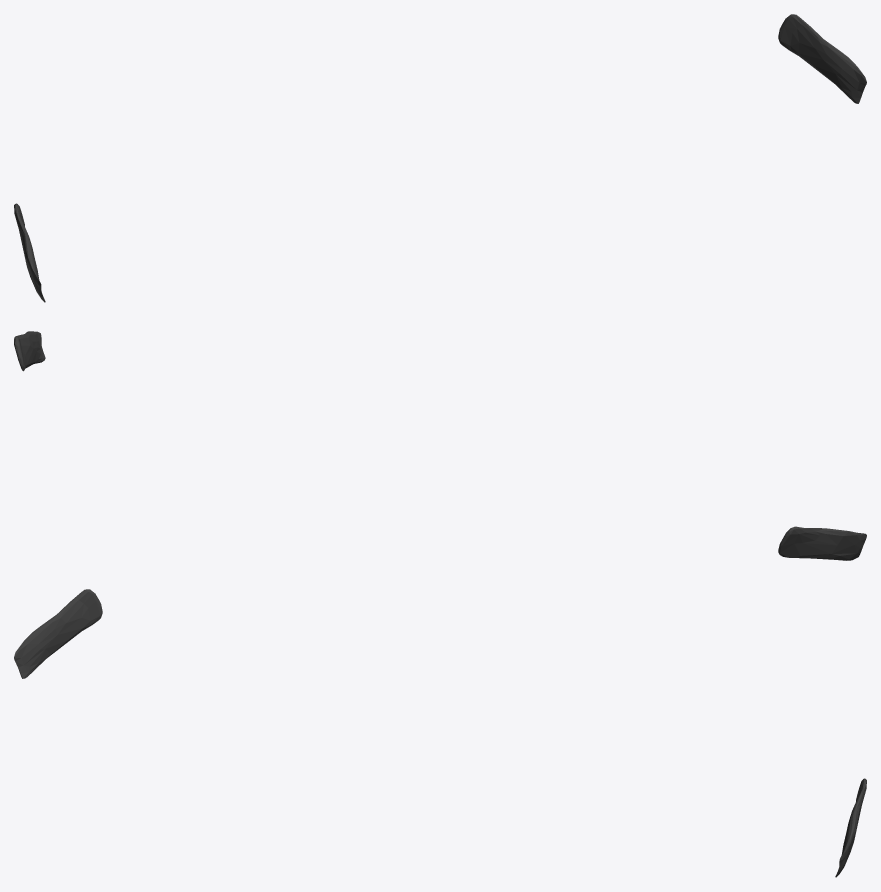
Rendered from lig_accessory_carpoulnar.glb.
The picture shows the model from 3 angles, top to bottom: view 1: azimuth 30°, elevation 25°; view 2: azimuth 150°, elevation 25°; view 3: azimuth 330°, elevation 25°; orthographic projection.
Visible parts, largest first — view 1: lig_accessory_carpoulnar; view 2: lig_accessory_carpoulnar; view 3: lig_accessory_carpoulnar.
Boxes of the visible parts, x1=… form: lig_accessory_carpoulnar: x1=14, y1=14, x2=866, y2=302; lig_accessory_carpoulnar: x1=14, y1=331, x2=866, y2=560; lig_accessory_carpoulnar: x1=14, y1=589, x2=866, y2=877.
Size of the model in its own units: 0.00485 by 0.000337 by 0.000551.
1 material, 1 textured.
